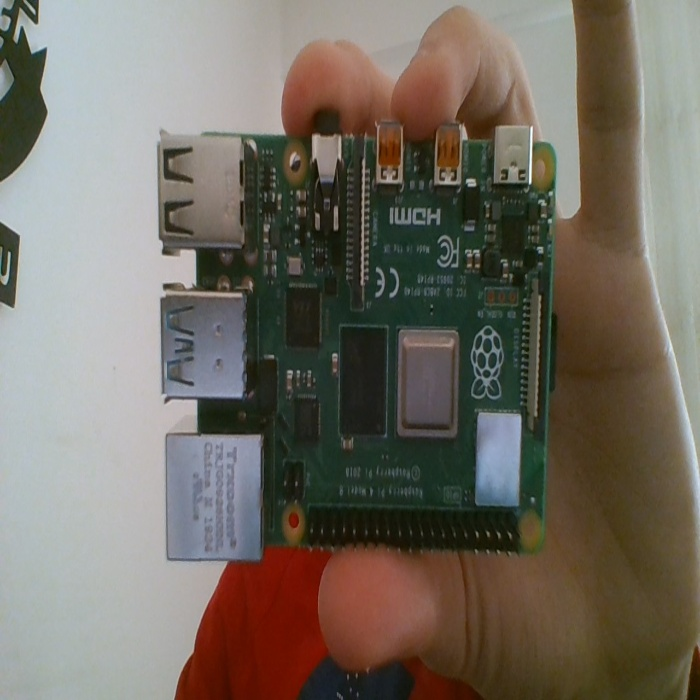raspberry: (115, 115, 569, 567)
